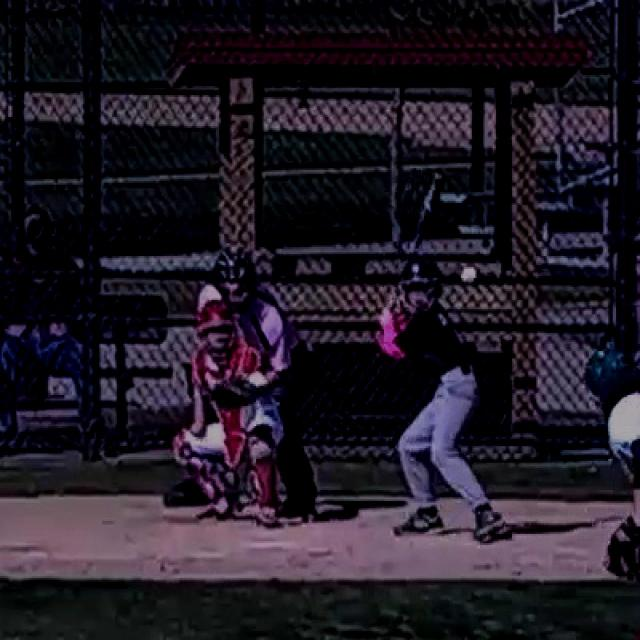baseball: (462, 268, 476, 282)
